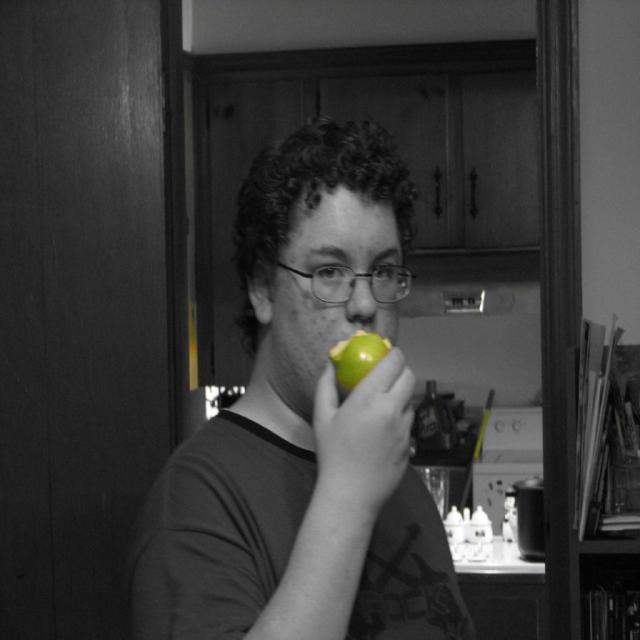Healty Apple: (318, 345, 398, 412)
